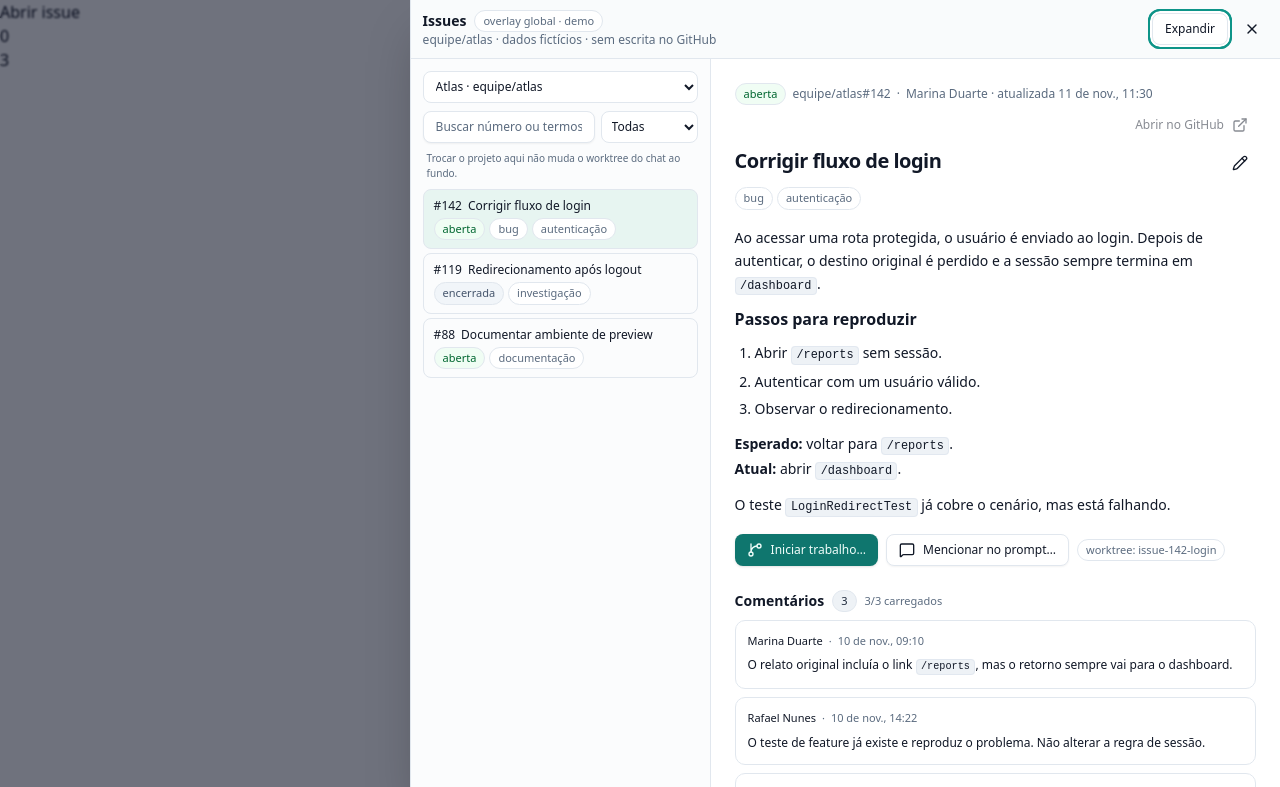
overlay de issues › mencionar no prompt não publica comentário e adiciona fonte ao rascunho
The width and height of the screenshot is (1280, 787).
Earlier steps of the test are not shown.
Check: the text with test id "sources" reads "0", box [0,25,9,47]
Step 1. Click the button "Mencionar no prompt…" → [978, 550], box [886,534,1069,566]
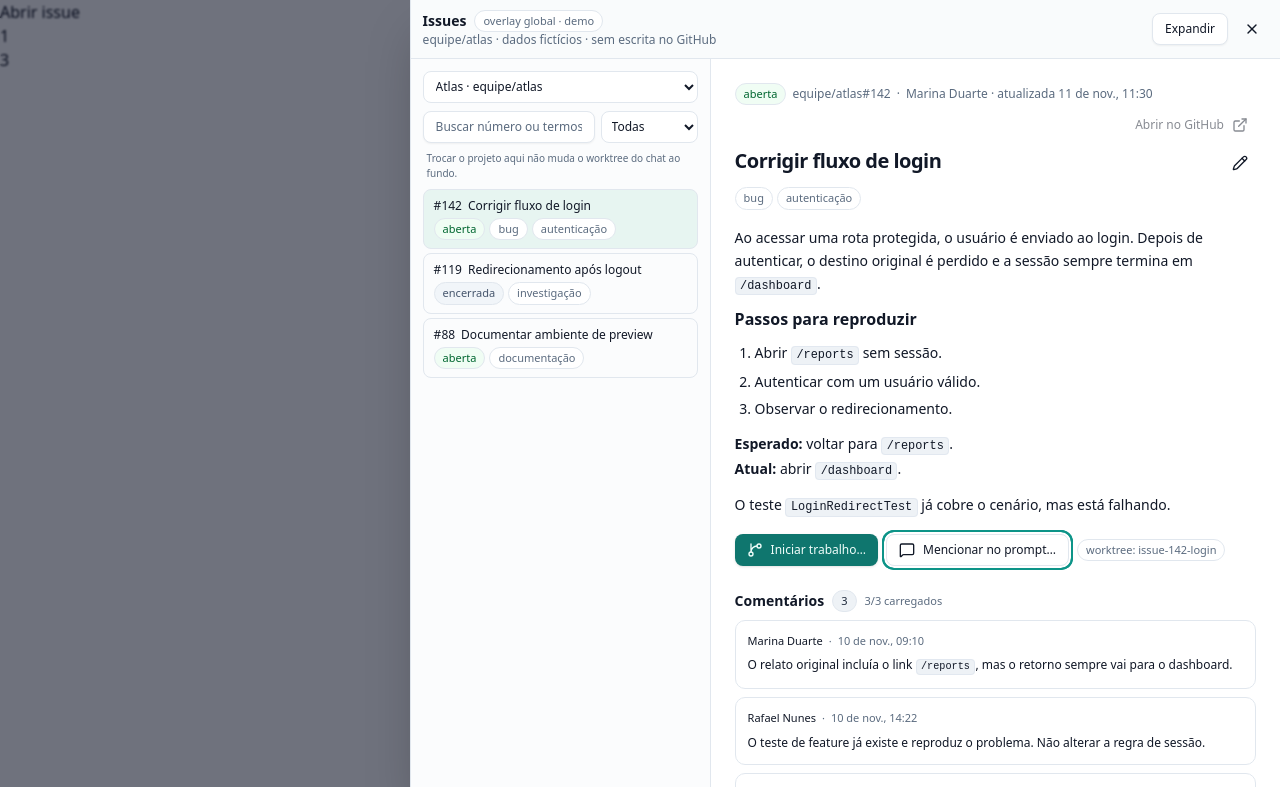
Check: the text with test id "comments" reads "3", box [0,49,9,71]
Check: the text with test id "sources" reads "1", box [0,25,9,47]
